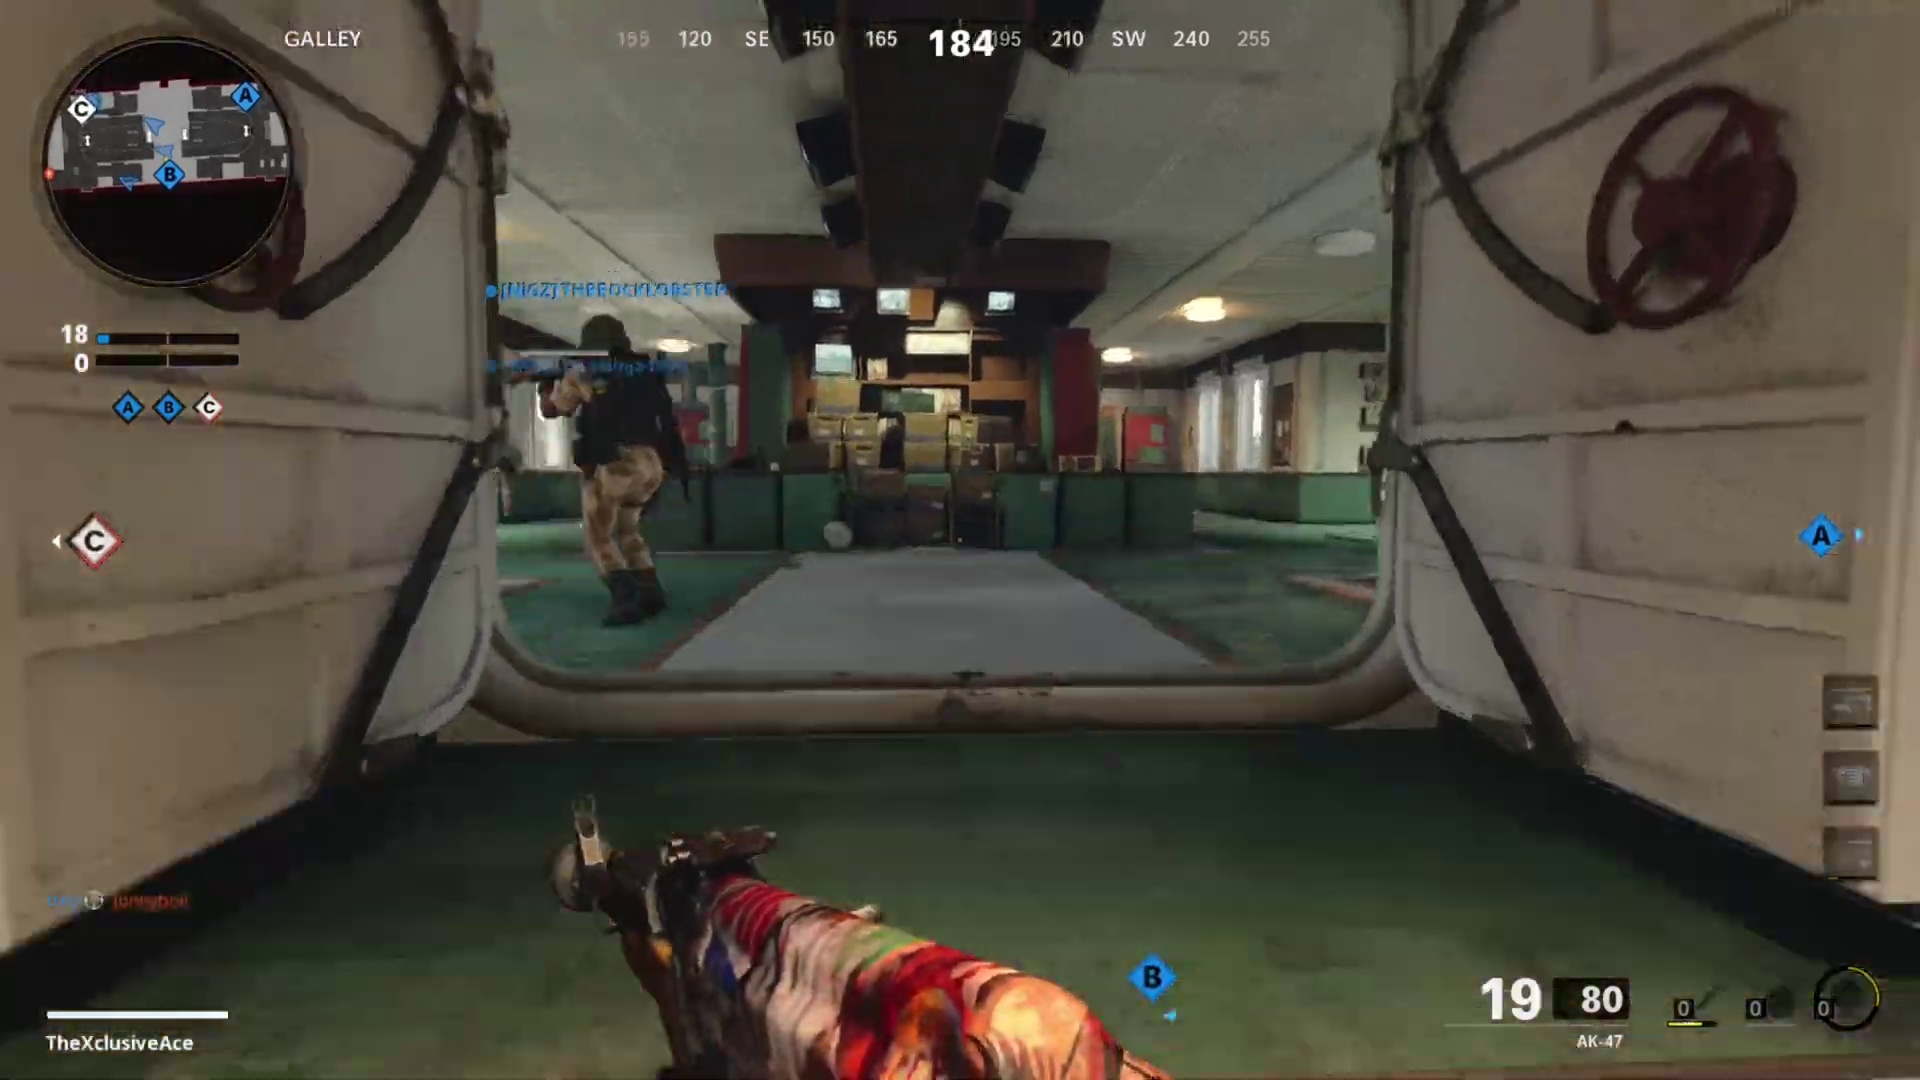head: (569, 308, 636, 375)
person: (543, 307, 681, 628)
